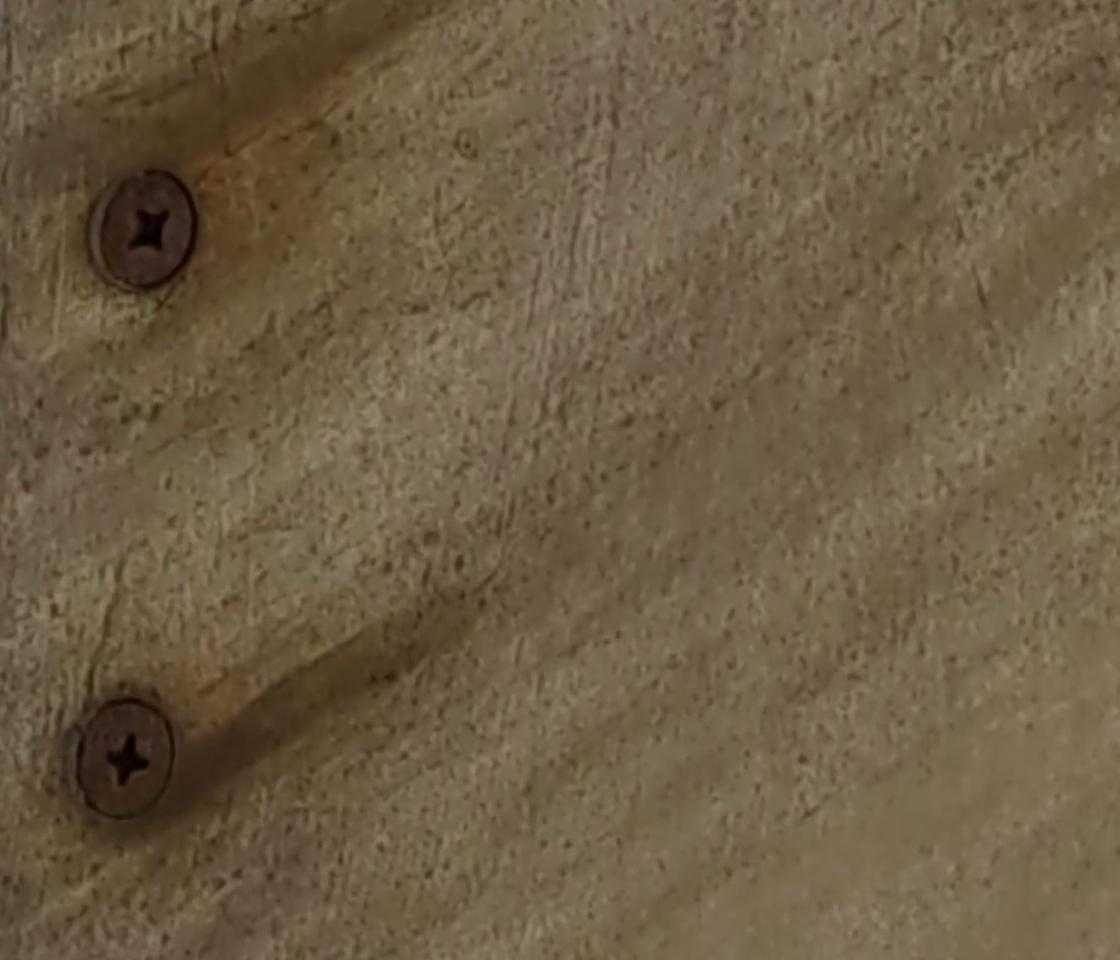rivet_damage: (69, 696, 185, 827), (83, 173, 203, 292)
